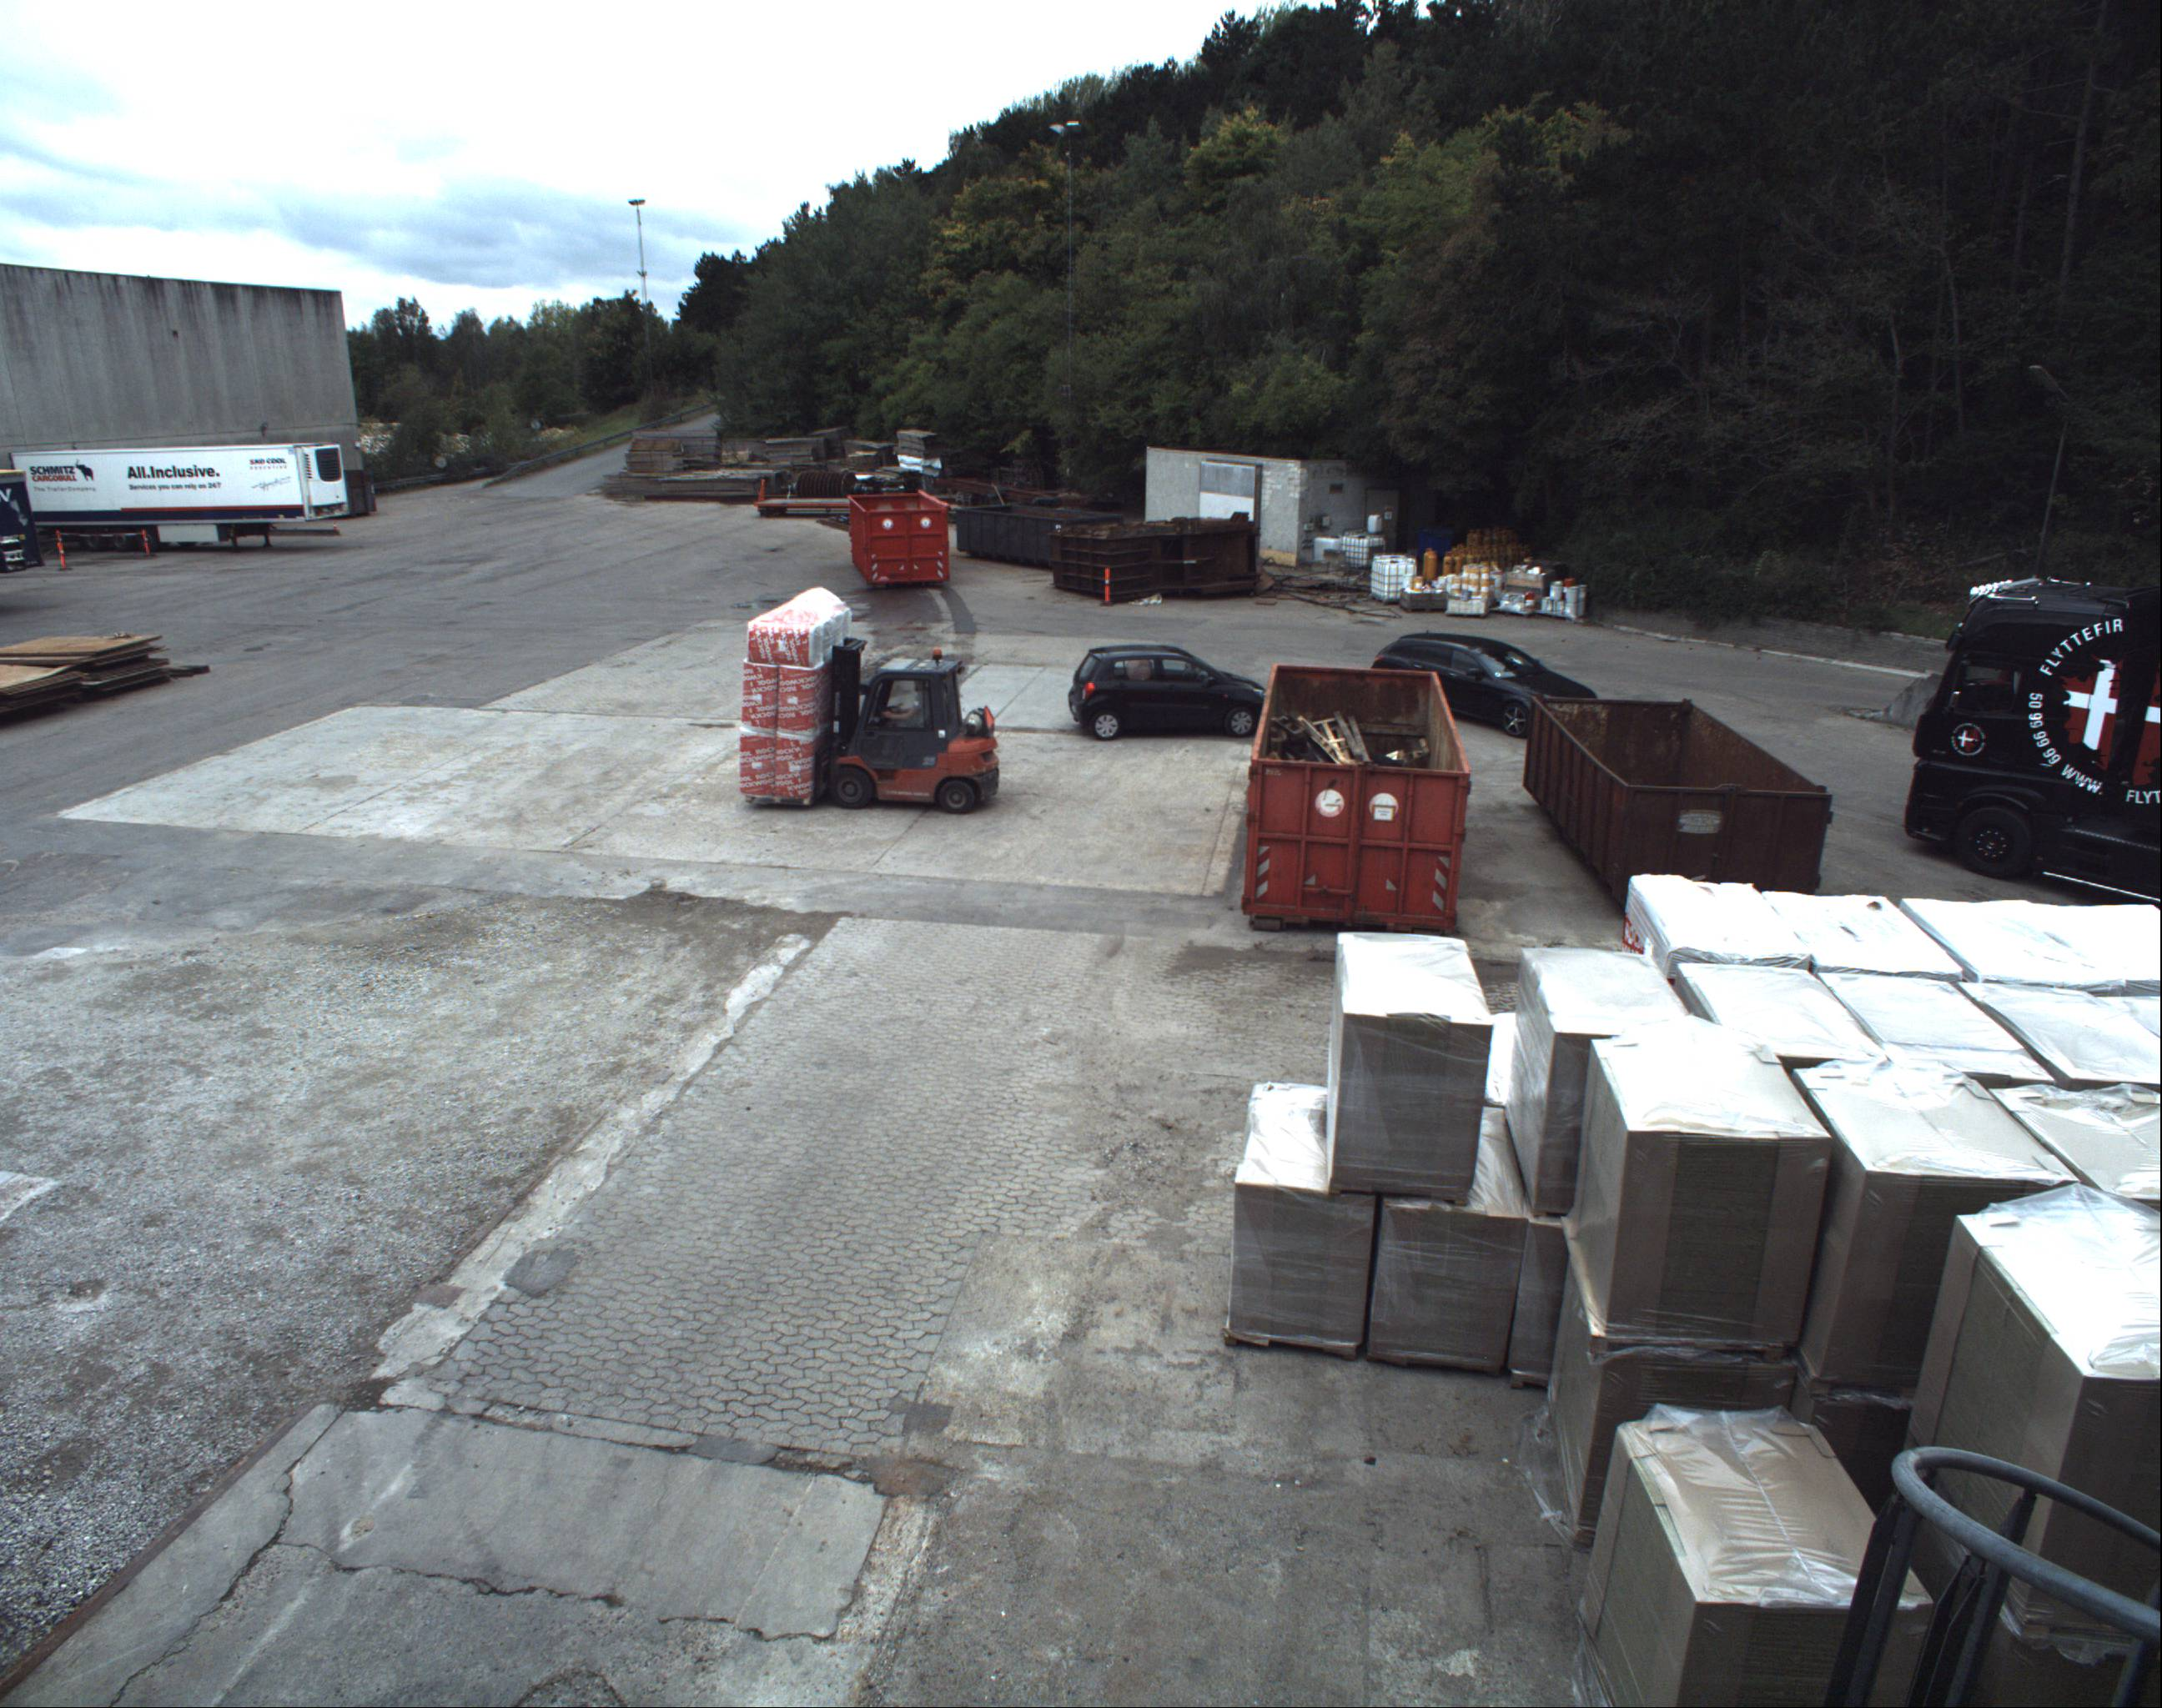rockwool_batts: (727, 592, 848, 799)
